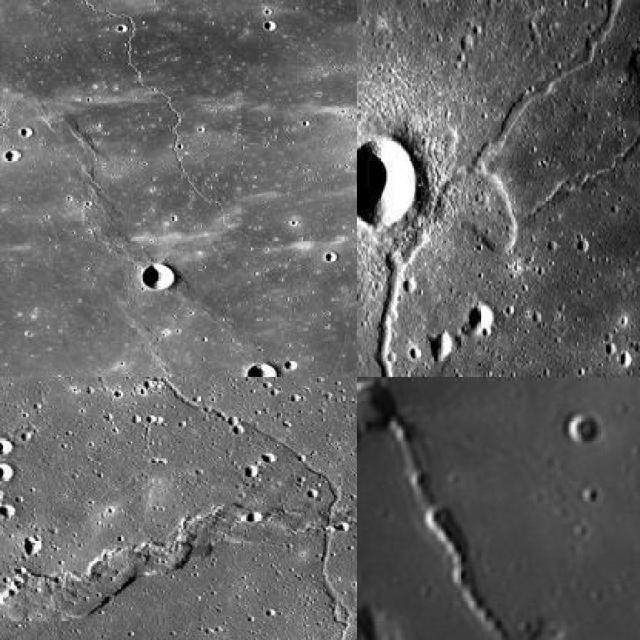rille: (0, 0, 355, 375), (356, 0, 638, 375), (8, 377, 355, 638), (357, 377, 557, 638)
